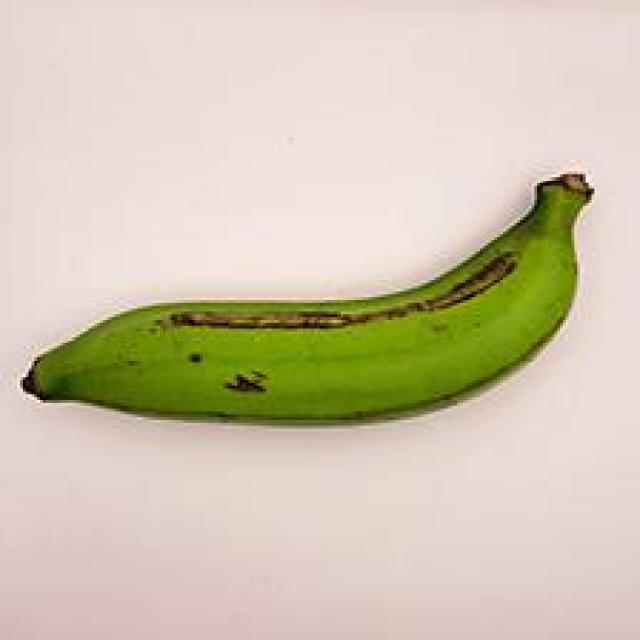Raw: (12, 160, 620, 451)
